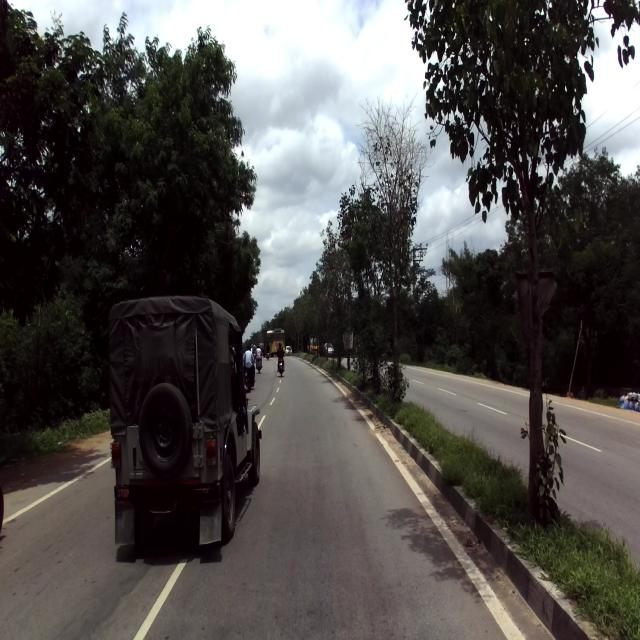Car: (108, 295, 262, 545)
